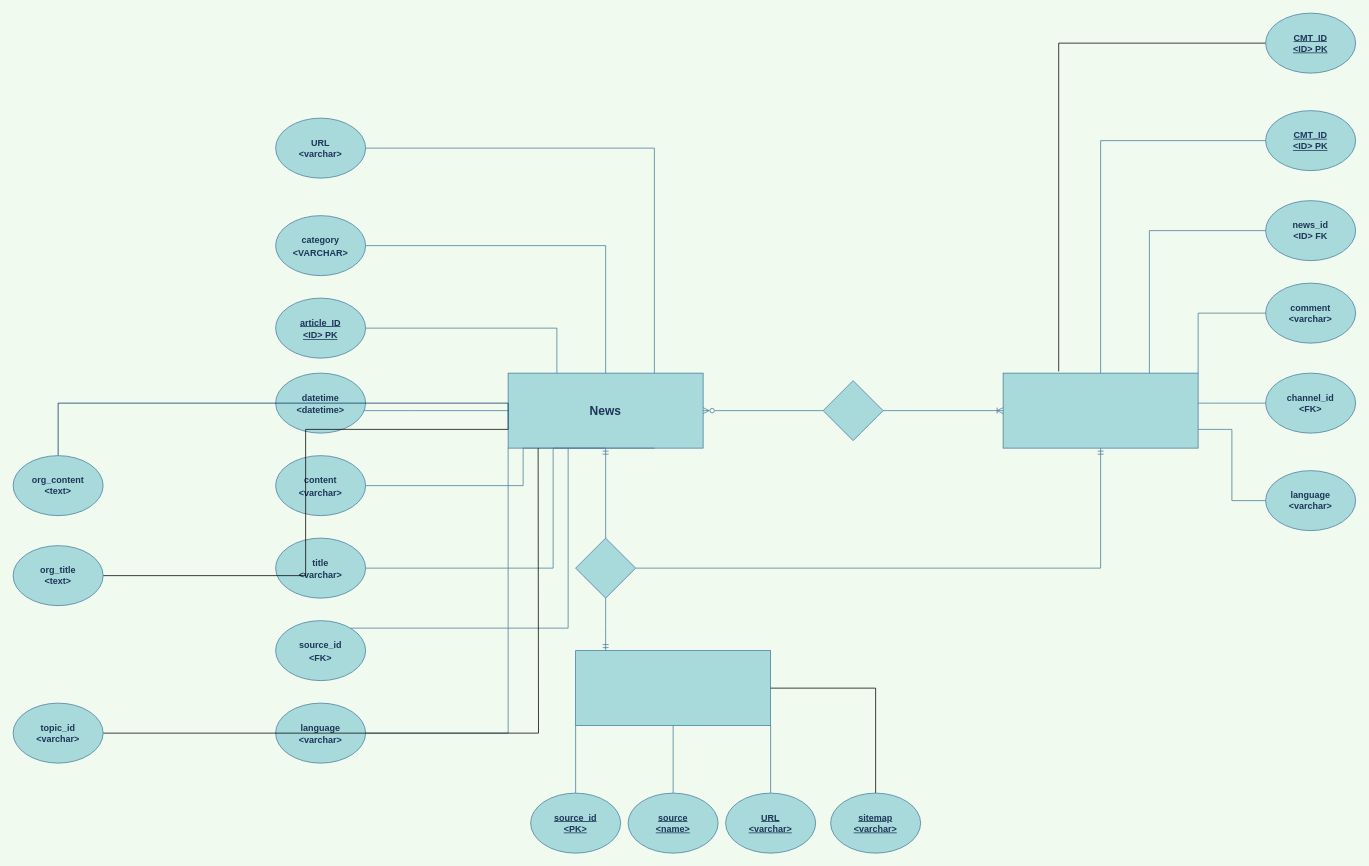
The diagram is 1369 pixels wide and 866 high, and some of its shapes have lost their labels. The centre of each missing label's shape, as x and y in pixels:
"Comments" goes at point 1100,410.
"contains" goes at point 852,410.
"publish" goes at point 605,567.
"Source" goes at point 673,688.
